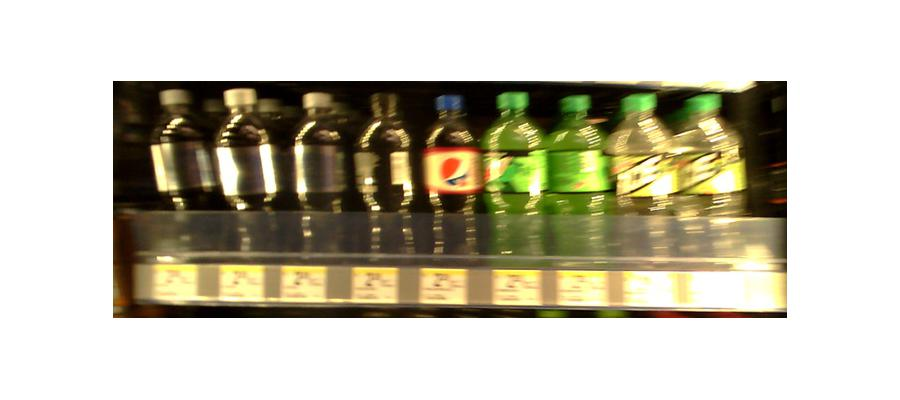bottle: (210, 87, 289, 256), (150, 88, 219, 255), (544, 91, 609, 264), (289, 88, 353, 263), (678, 98, 747, 259), (485, 85, 545, 267), (355, 90, 418, 259), (422, 89, 482, 261), (613, 91, 672, 259)
